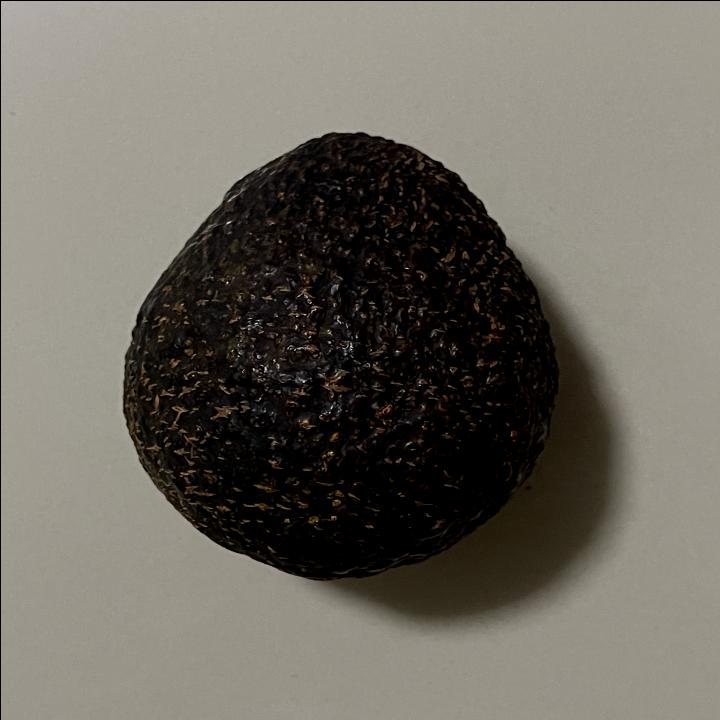Level3: (110, 122, 568, 588)
